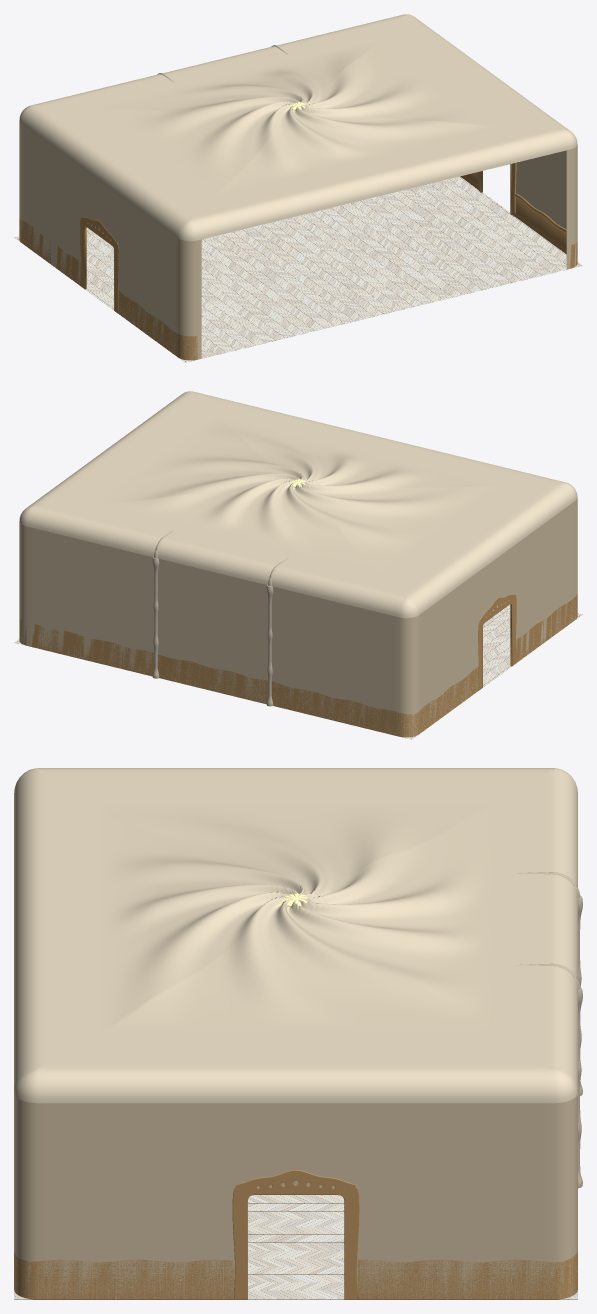
File: salle-honneur.glb
3 renders of one model, top to bottom at view 1: azimuth 30°, elevation 25°; view 2: azimuth 150°, elevation 25°; view 3: azimuth 270°, elevation 25°, orthographic. The views are drawn at different scales.
Parts seen in each view (by area): view 1: Voute, Parquet, Peau, Lambris, Parquet_Joints, Portes; view 2: Voute, Peau, Lambris, Parquet, Os, Portes; view 3: Voute, Peau, Lambris, Parquet, Portes, Os, Parquet_Joints.
Boxes of the visible parts, x1=… form: Voute: x1=19, y1=14, x2=577, y2=241; Parquet: x1=14, y1=176, x2=582, y2=362; Peau: x1=19, y1=121, x2=577, y2=360; Lambris: x1=19, y1=172, x2=577, y2=360; Parquet_Joints: x1=87, y1=177, x2=566, y2=361; Portes: x1=80, y1=162, x2=516, y2=313; Voute: x1=19, y1=391, x2=577, y2=618; Peau: x1=19, y1=498, x2=577, y2=736; Lambris: x1=19, y1=593, x2=577, y2=737; Parquet: x1=14, y1=604, x2=582, y2=739; Os: x1=152, y1=530, x2=288, y2=706; Portes: x1=478, y1=594, x2=516, y2=690; Voute: x1=14, y1=768, x2=577, y2=1103; Peau: x1=14, y1=1093, x2=577, y2=1299; Lambris: x1=14, y1=1251, x2=577, y2=1299; Parquet: x1=14, y1=1195, x2=577, y2=1299; Portes: x1=232, y1=1170, x2=359, y2=1299; Os: x1=515, y1=872, x2=582, y2=1188; Parquet_Joints: x1=14, y1=1195, x2=577, y2=1299.
Size of the model in its own units: 15.72 by 5.6 by 11.8.
